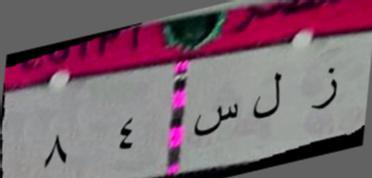4: (115, 114, 140, 157)
8: (38, 130, 72, 170)
laam: (251, 66, 285, 124)
seen: (194, 95, 242, 141)
zay: (308, 60, 344, 116)
